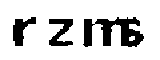6: (122, 17, 147, 52)
m: (83, 17, 128, 48)
r: (12, 16, 37, 48)
z: (44, 16, 75, 50)
